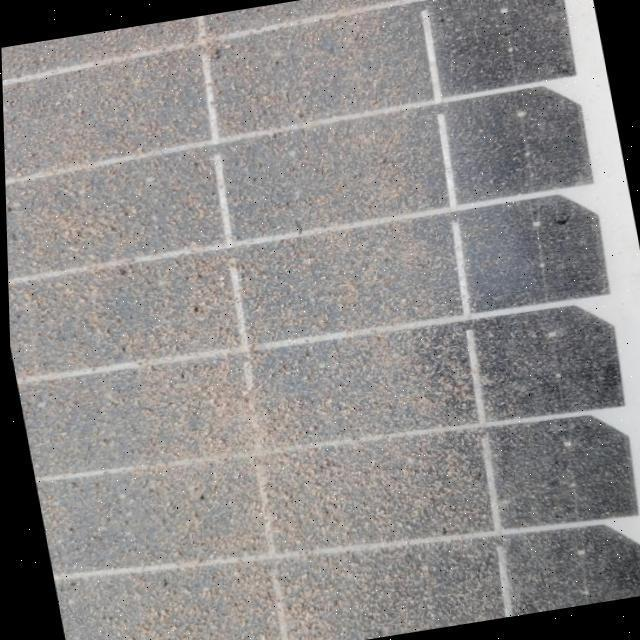Surface Contaminant: (86, 0, 640, 640)
